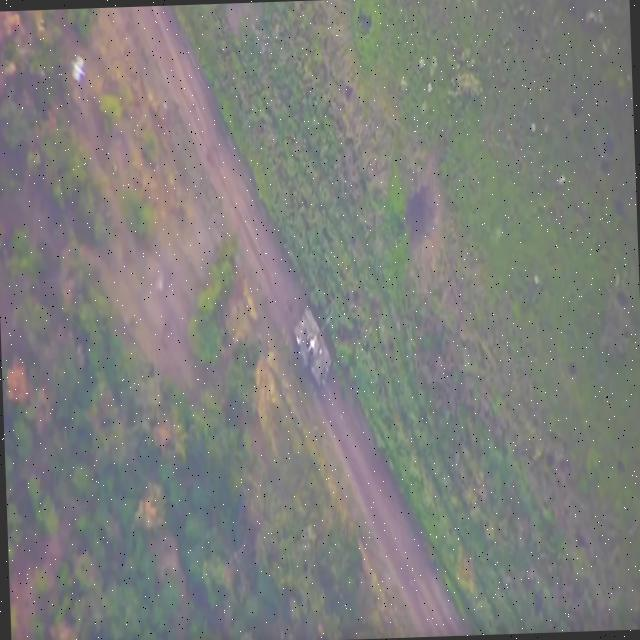MBT: (292, 296, 346, 394)
